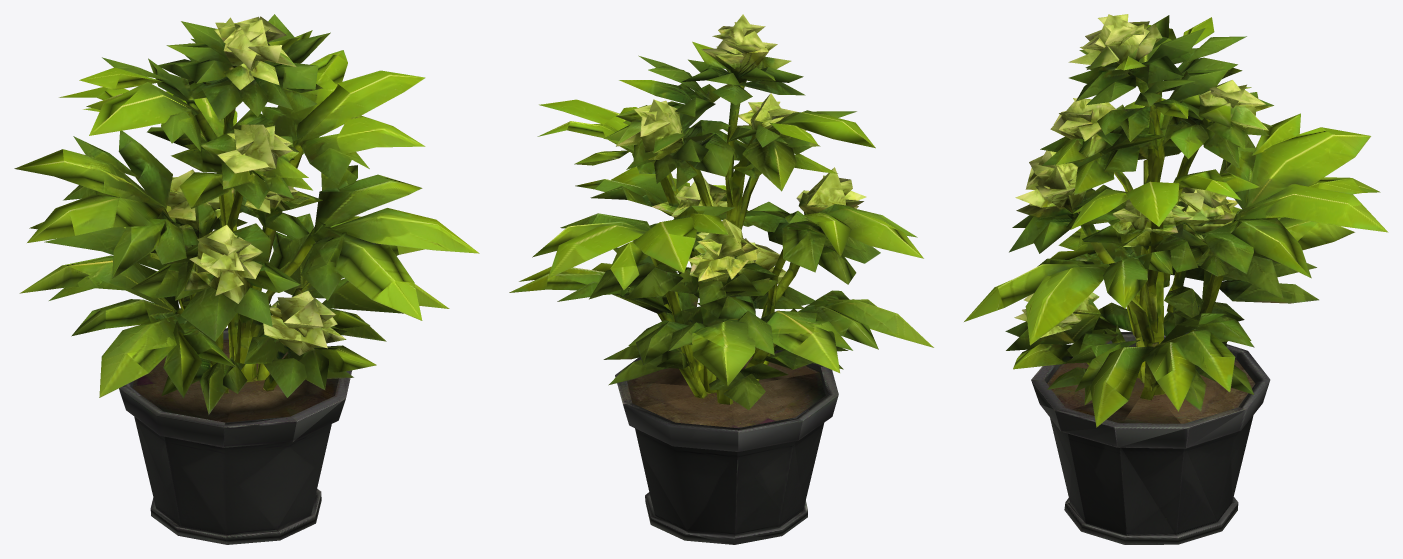
The model's file is mature-buds.glb.
3 renders of one model, left to right at view 1: azimuth 30°, elevation 25°; view 2: azimuth 150°, elevation 25°; view 3: azimuth 270°, elevation 25°, orthographic. The views are drawn at different scales.
Size of the model in its own units: 0.8594 by 1 by 0.7734.
1 material, 1 textured.
